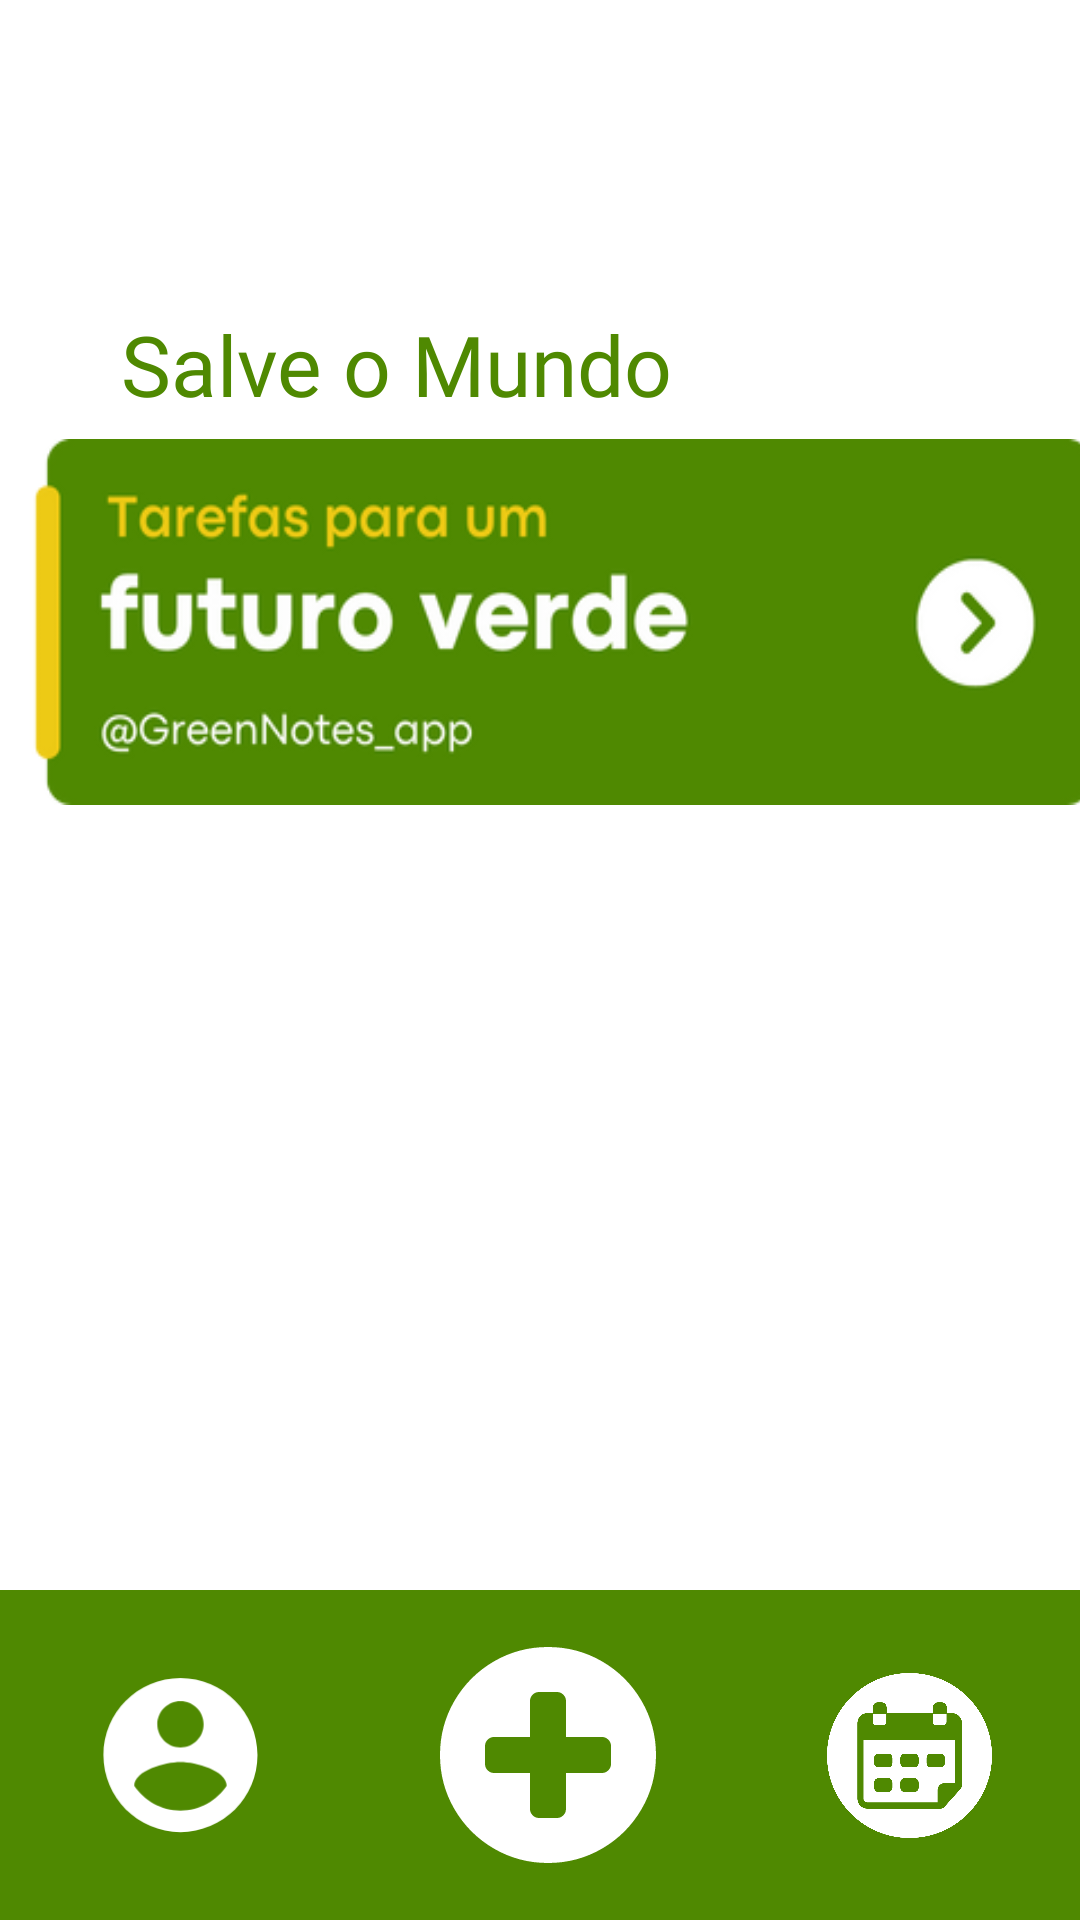

Icons on this 1080x1920 Android screen, each with its box as (x1, y1, x2, y2):
calendar: (827, 1673, 992, 1838)
perfil: (103, 1678, 258, 1833)
plus: (440, 1647, 656, 1863)
